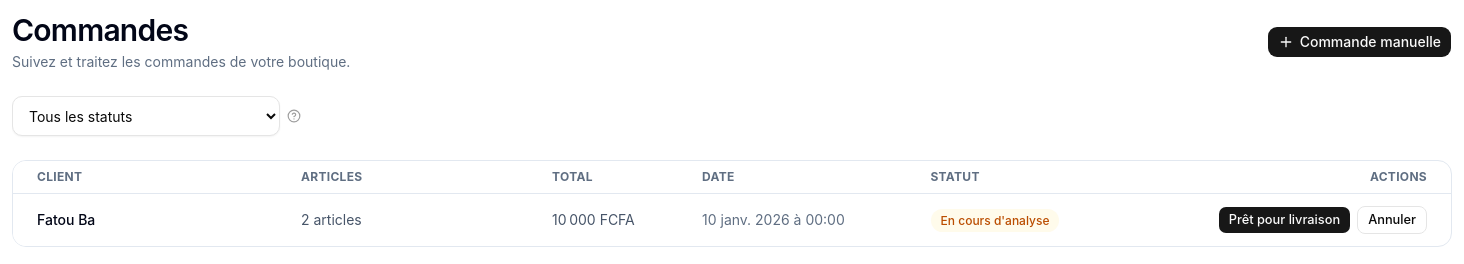
it: OrdersPageContent › advances an order to 'ready_for_delivery' and logs the change
Click the button "Prêt pour livraison": (1284, 220) [1218,206,1351,234]
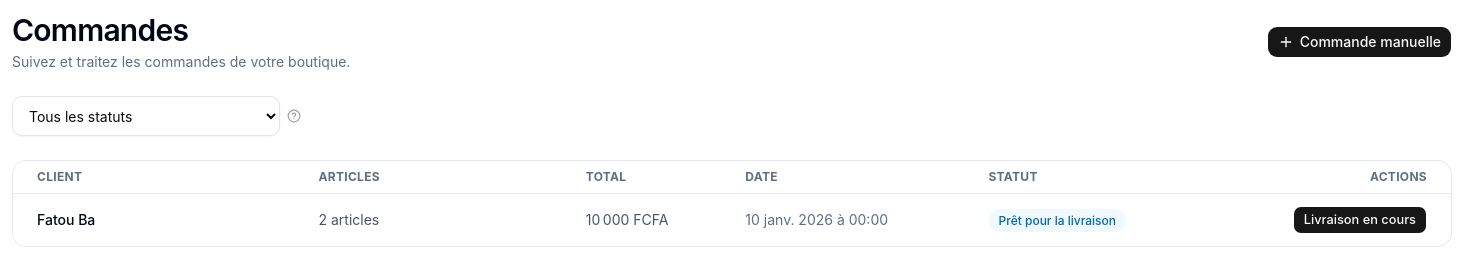
Expected: the text "Prêt pour la livraison" is shown, [988,209,1126,232]
